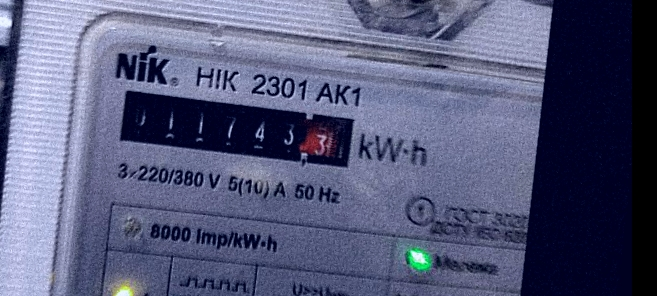0: (132, 100, 149, 129)
1: (193, 106, 208, 136), (164, 103, 177, 131)
3: (281, 119, 298, 148), (311, 132, 328, 158)
4: (251, 116, 268, 144)
7: (221, 110, 239, 139)
screen: (107, 78, 367, 180)
